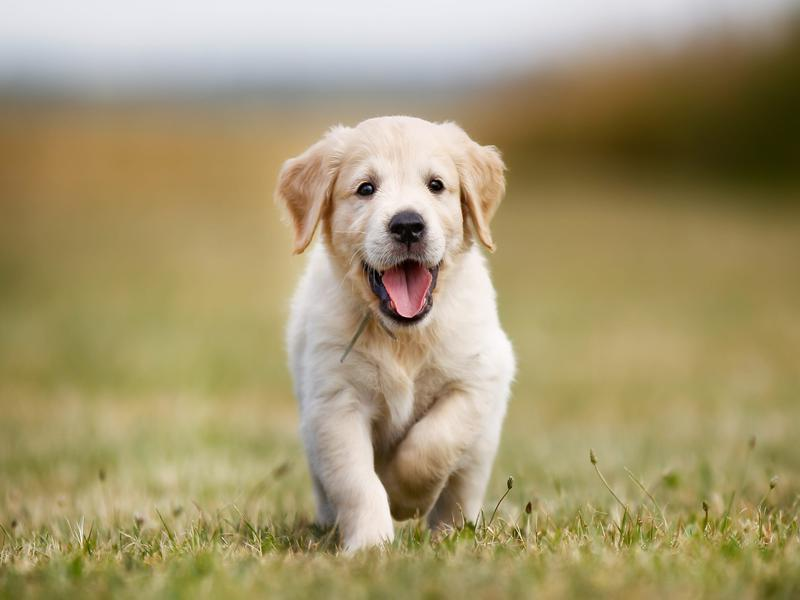dog: (270, 113, 532, 558)
